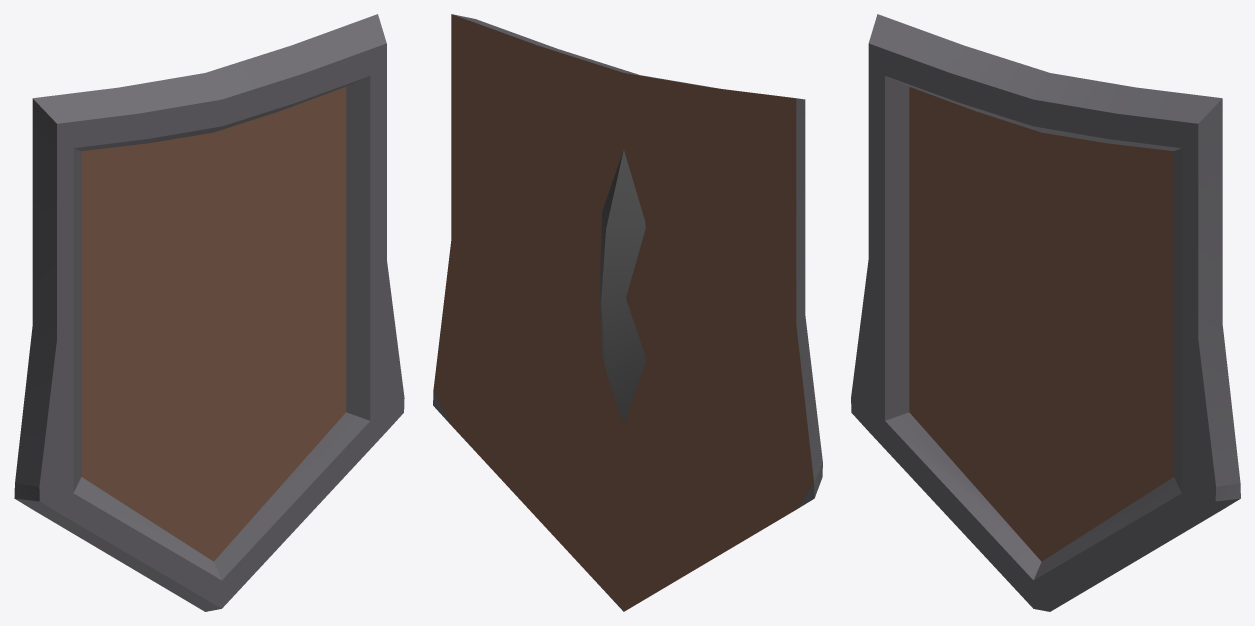
Rendered from Shield_3.fbx.
3 views of the same model, side by side, from view 1: azimuth 30°, elevation 25°; view 2: azimuth 150°, elevation 25°; view 3: azimuth 330°, elevation 25° (orthographic).
Parts seen in each view (by area): view 1: polySurface229; view 2: polySurface229; view 3: polySurface229.
Part boxes in pixels (x1,y1,x2,y2): polySurface229: (14, 14, 404, 611); polySurface229: (433, 14, 822, 611); polySurface229: (851, 14, 1240, 611).
Bounding box in the file's own units: 92.57 × 129 × 16.59.
